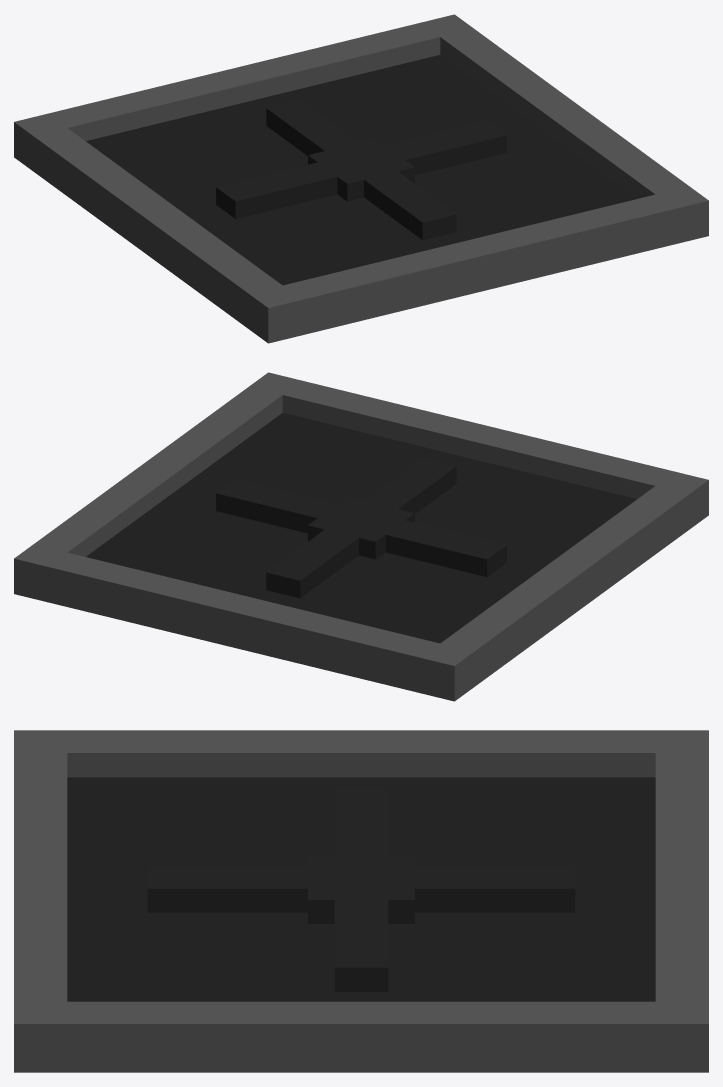
Rendered from trap_LARGE_DOT_BLACK.glb.
3 views of the same model, one above another, from view 1: azimuth 30°, elevation 25°; view 2: azimuth 150°, elevation 25°; view 3: azimuth 270°, elevation 25° (orthographic). The views are drawn at different scales.
Visible parts, largest first — view 1: item_TRAP_LARGE_DOT_BLACK; view 2: item_TRAP_LARGE_DOT_BLACK; view 3: item_TRAP_LARGE_DOT_BLACK.
Boxes of the visible parts, x1,y1,x2,y2 form: item_TRAP_LARGE_DOT_BLACK: (14, 14, 708, 343); item_TRAP_LARGE_DOT_BLACK: (14, 372, 708, 701); item_TRAP_LARGE_DOT_BLACK: (14, 730, 708, 1072).
Bounding box in the file's own units: 0.5909 × 0.0455 × 0.5909.
1 material, 1 textured.
